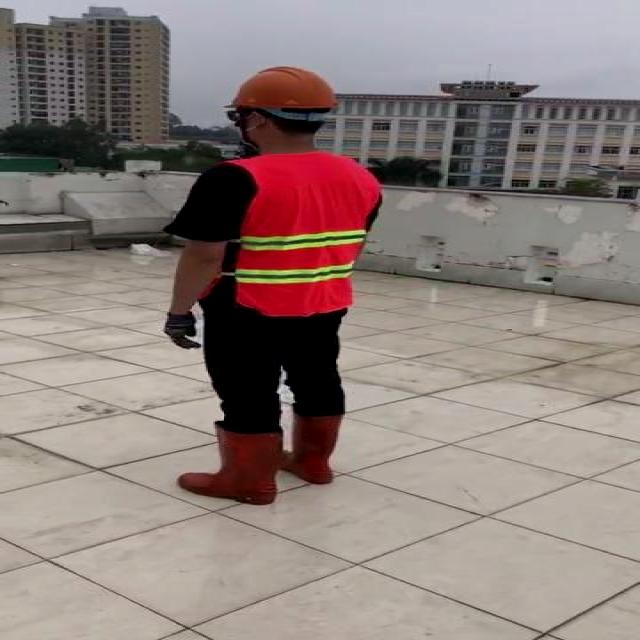boots: (170, 424, 284, 508), (276, 412, 350, 484)
hand_glove: (158, 304, 214, 354)
head_helmet: (221, 64, 346, 114)
person: (151, 63, 389, 507)
vest: (208, 153, 380, 316)
